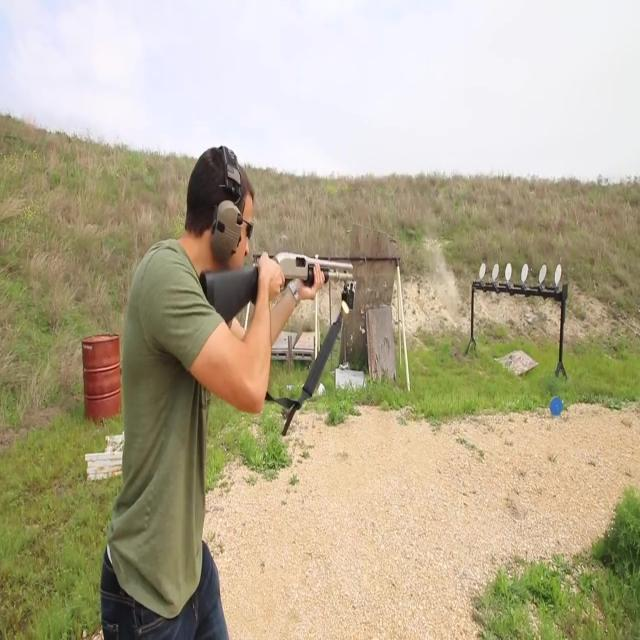Weapon: (176, 242, 376, 442)
